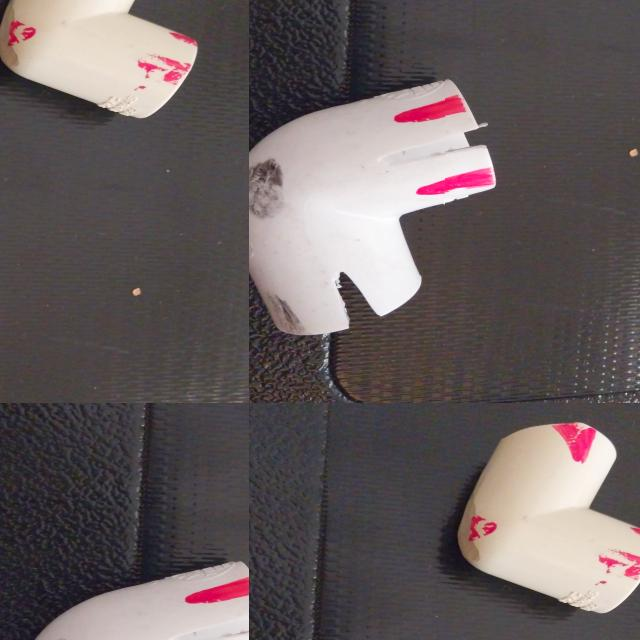Defective: (23, 239, 142, 281), (537, 424, 606, 467), (497, 3, 541, 51), (570, 553, 640, 581), (305, 111, 344, 159), (554, 290, 610, 323), (396, 265, 449, 299), (216, 23, 249, 77), (249, 0, 272, 58), (470, 516, 516, 542), (591, 285, 612, 310)
L Joint: (455, 424, 640, 616), (99, 18, 249, 248), (0, 201, 149, 403)
T Joint: (446, 0, 640, 241)
